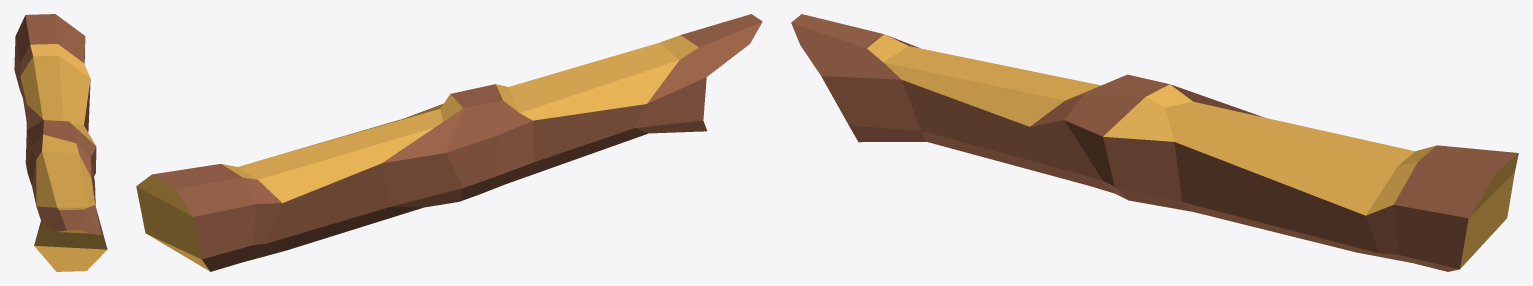
File: log_2.fbx
3 renders of one model, left to right at view 1: azimuth 30°, elevation 25°; view 2: azimuth 150°, elevation 25°; view 3: azimuth 270°, elevation 25°, orthographic. The views are drawn at different scales.
Parts seen in each view (by area): view 1: log_2; view 2: log_2; view 3: log_2.
Boxes of the visible parts, box(x1,y1,x2,y2) form: log_2: box(14, 14, 107, 271); log_2: box(136, 14, 762, 271); log_2: box(791, 14, 1518, 271).
Bounding box in the file's own units: 293 × 81.05 × 507.
